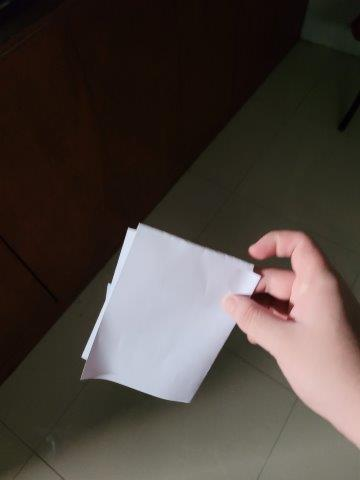kertas: (78, 221, 263, 407)
